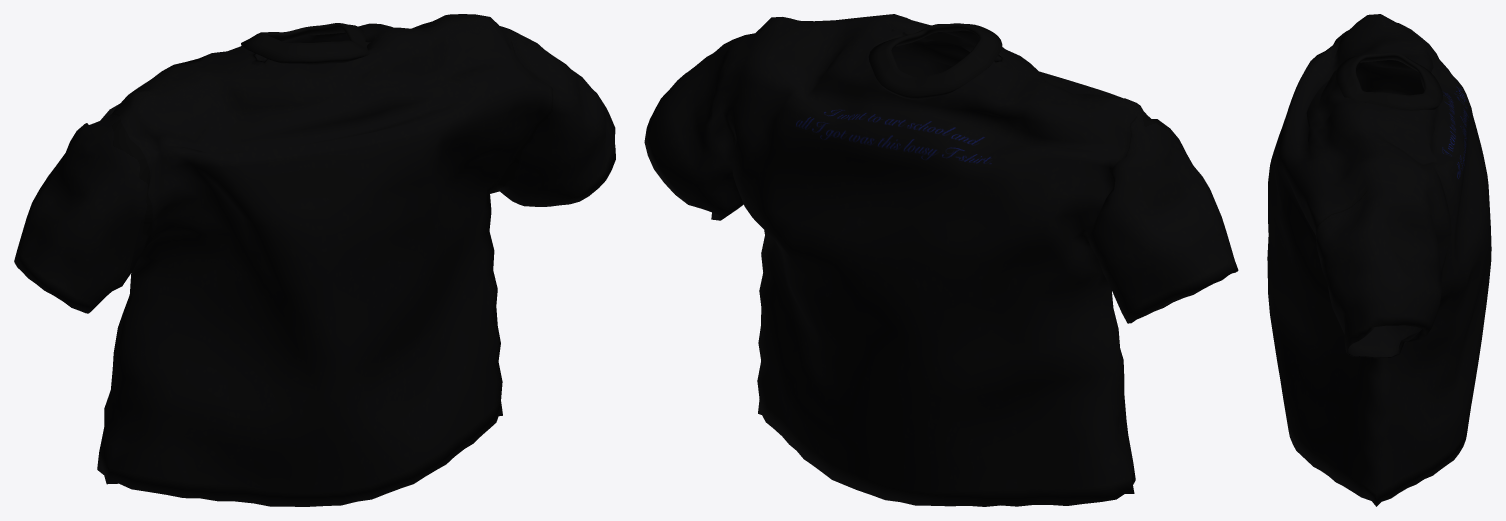
The model's file is art_school_tshirt_black.glb.
3 renders of one model, left to right at view 1: azimuth 30°, elevation 25°; view 2: azimuth 150°, elevation 25°; view 3: azimuth 270°, elevation 25°, orthographic. The views are drawn at different scales.
Visible parts, largest first — view 1: ARTSCHOOL_TSHIRT_BLACK; view 2: ARTSCHOOL_TSHIRT_BLACK; view 3: ARTSCHOOL_TSHIRT_BLACK.
Part boxes in pixels (x1,y1,x2,y2): ARTSCHOOL_TSHIRT_BLACK: (14,14,615,506); ARTSCHOOL_TSHIRT_BLACK: (644,14,1238,506); ARTSCHOOL_TSHIRT_BLACK: (1267,14,1491,506).
Bounding box in the file's own units: 0.7808 × 0.5533 × 0.3073.
1 material, 1 textured.
